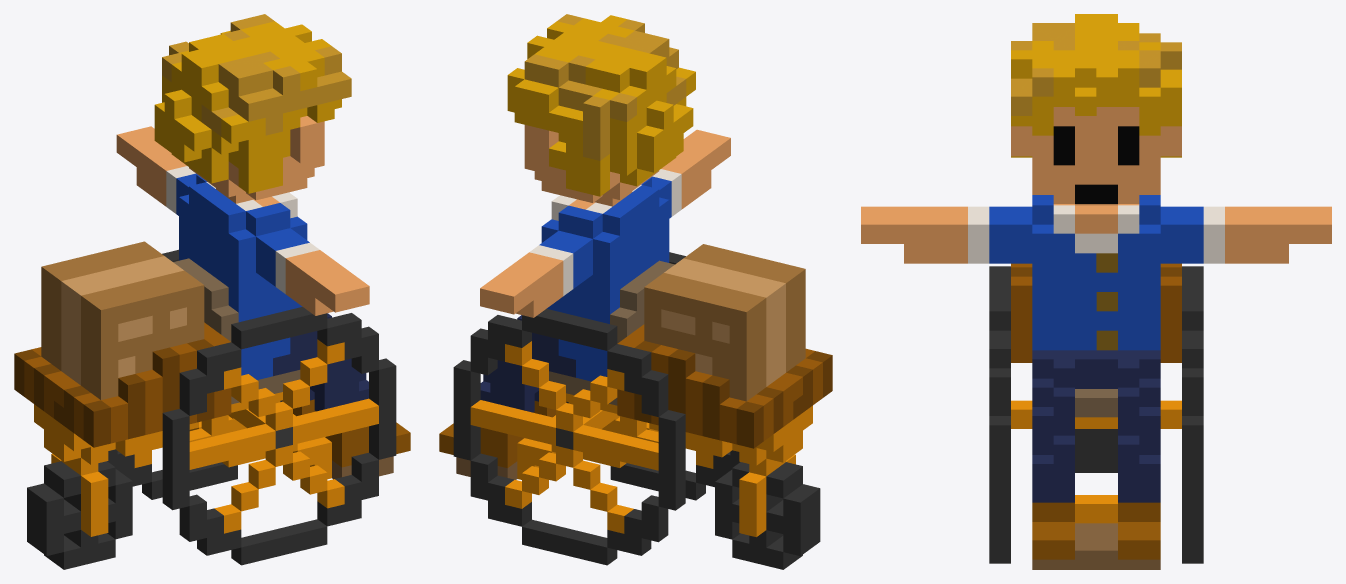
The model's file is weelchare_with_person_in_T_pose.obj.
The picture shows the model from 3 angles, left to right: view 1: azimuth 30°, elevation 25°; view 2: azimuth 150°, elevation 25°; view 3: azimuth 270°, elevation 25°; orthographic projection. The views are drawn at different scales.
Bounding box in the file's own units: 2 × 2.6 × 2.2.
Materials: 1 (1 with a texture image).
